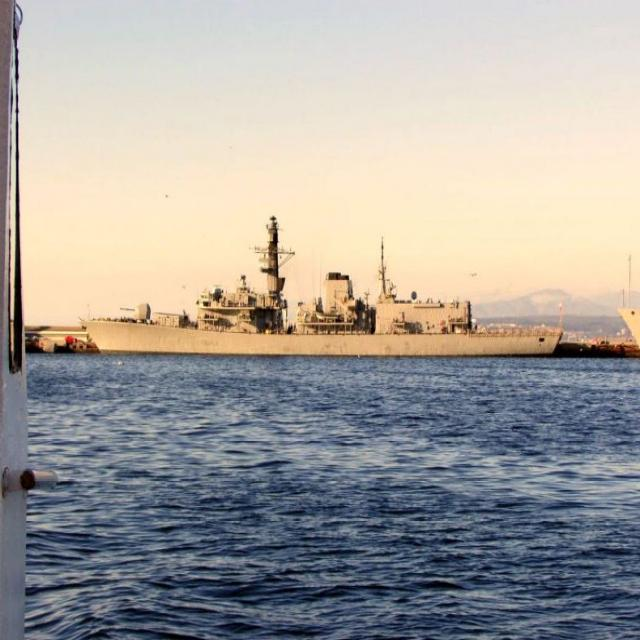Fragata: (80, 205, 568, 360)
